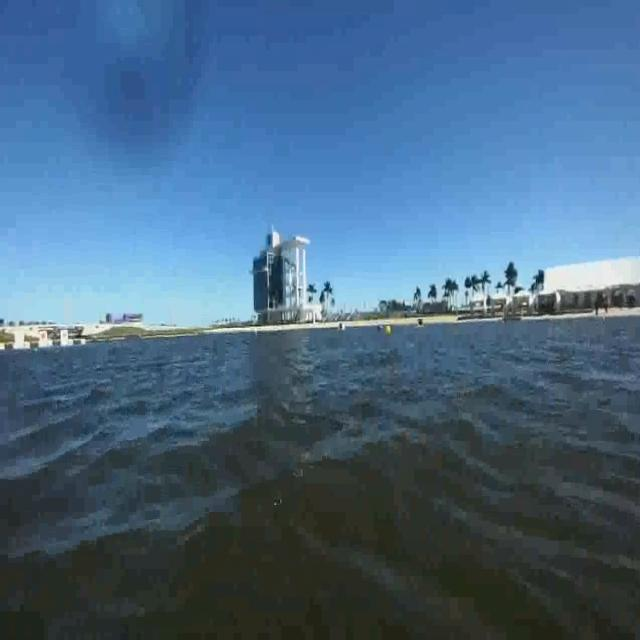yellow-buoy: (385, 324, 393, 336)
